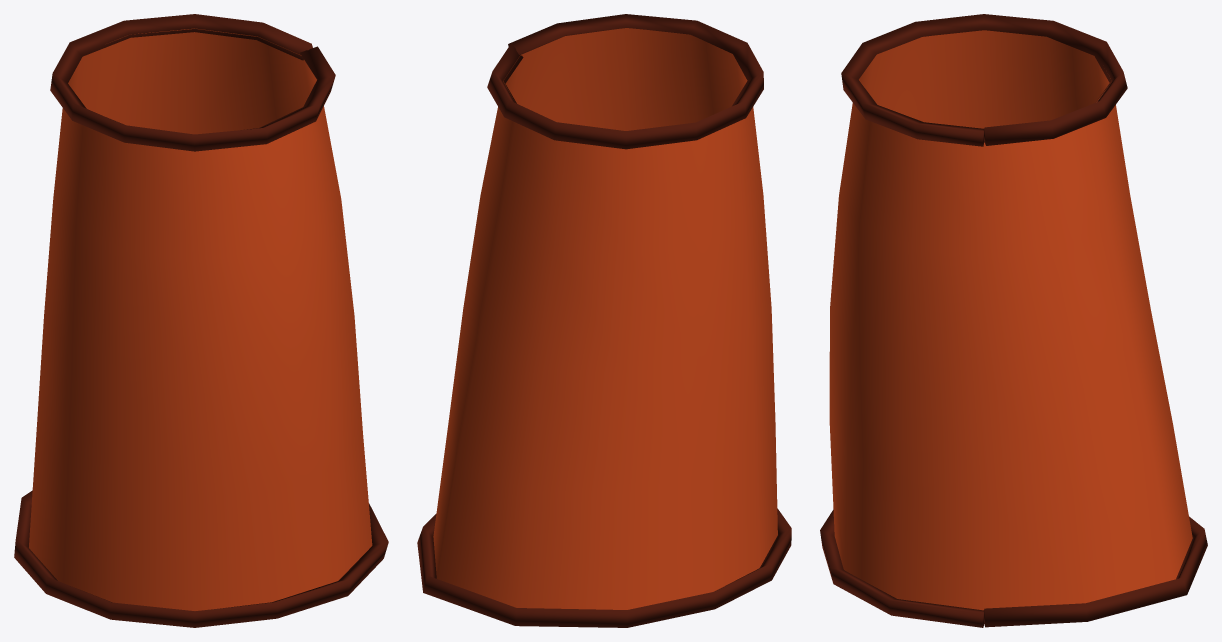
Rendered from hellstone_armor_cuisse.L.glb.
3 views of the same model, side by side, from view 1: azimuth 30°, elevation 25°; view 2: azimuth 150°, elevation 25°; view 3: azimuth 270°, elevation 25° (orthographic). The views are drawn at different scales.
Parts seen in each view (by area): view 1: hellstone_armor_cuisse.L; view 2: hellstone_armor_cuisse.L; view 3: hellstone_armor_cuisse.L.
Boxes of the visible parts, bbox=[...] form: hellstone_armor_cuisse.L: bbox=[14, 14, 388, 627]; hellstone_armor_cuisse.L: bbox=[417, 14, 791, 627]; hellstone_armor_cuisse.L: bbox=[820, 14, 1207, 627].
Bounding box in the file's own units: 0.2667 × 0.3856 × 0.2845.
